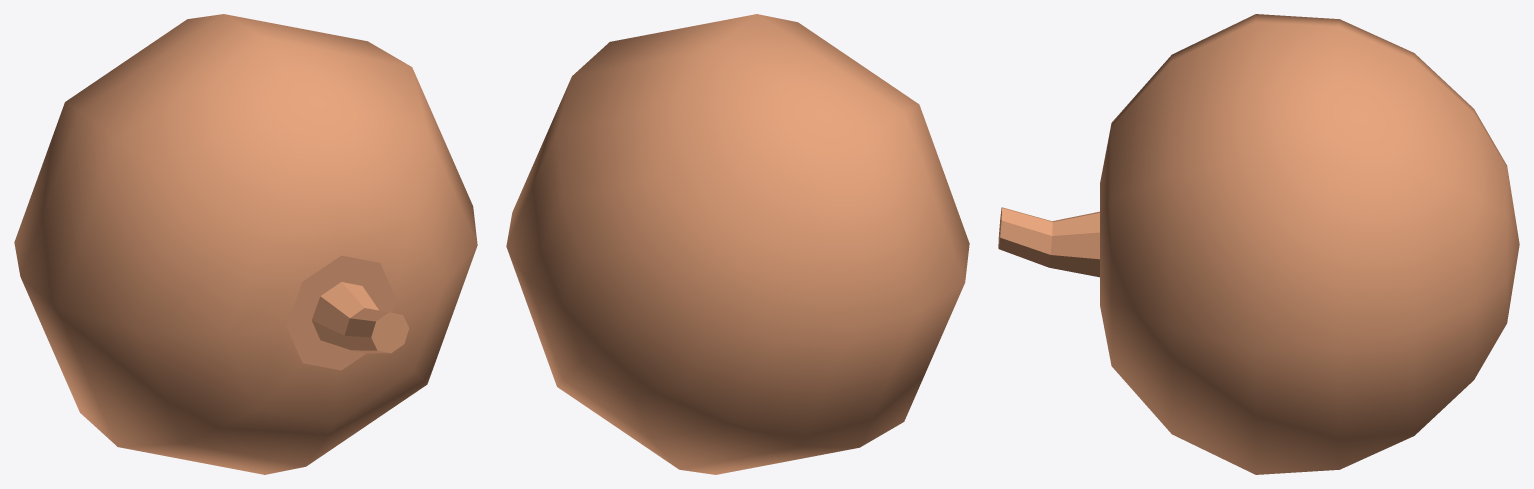
The model's file is Onion.FBX.
The picture shows the model from 3 angles, left to right: view 1: azimuth 30°, elevation 25°; view 2: azimuth 150°, elevation 25°; view 3: azimuth 270°, elevation 25°; orthographic projection. The views are drawn at different scales.
Parts seen in each view (by area): view 1: Sphere003; view 2: Sphere003; view 3: Sphere003.
Boxes of the visible parts, x1,y1,x2,y2 form: Sphere003: (14,14,477,474); Sphere003: (506,14,969,474); Sphere003: (998,14,1519,474).
Size of the model in its own units: 0.8849 by 0.8849 by 0.9405.
